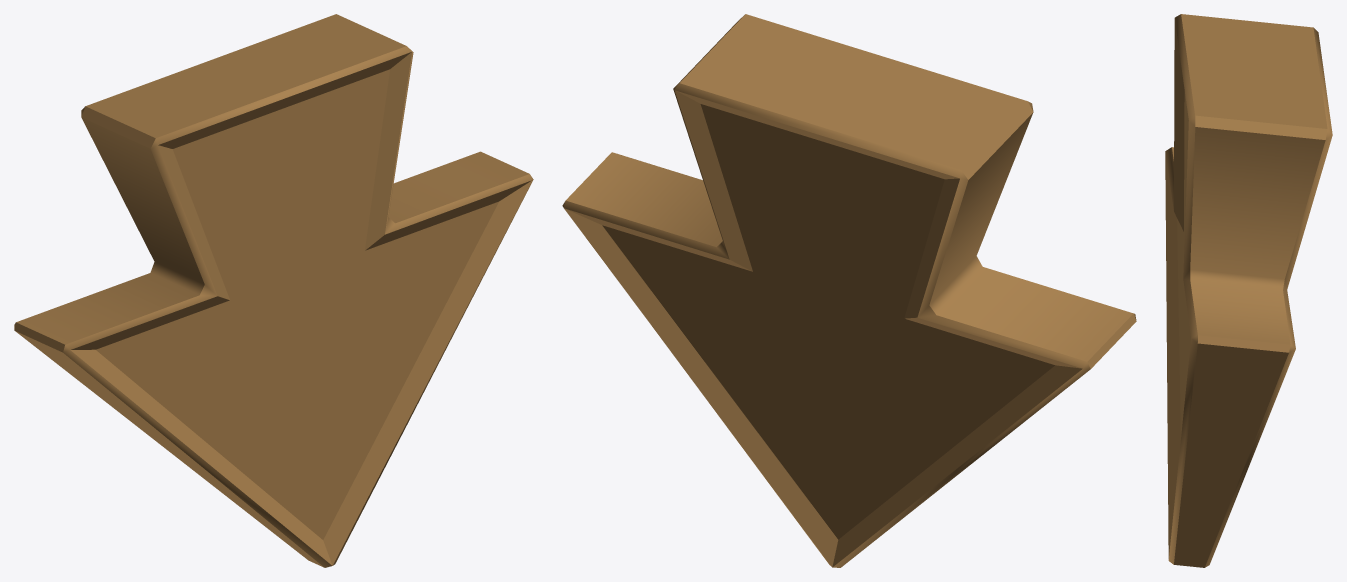
The model's file is FlechaApuntado.fbx.
3 views of the same model, side by side, from view 1: azimuth 30°, elevation 25°; view 2: azimuth 150°, elevation 25°; view 3: azimuth 270°, elevation 25° (orthographic). The views are drawn at different scales.
Parts seen in each view (by area): view 1: node_id45; view 2: node_id45; view 3: node_id45.
Boxes of the visible parts, x1=… form: node_id45: x1=14, y1=14, x2=533, y2=567; node_id45: x1=562, y1=14, x2=1136, y2=567; node_id45: x1=1165, y1=14, x2=1332, y2=567.
Size of the model in its own units: 0.5124 by 0.4978 by 0.153.
1 material, 1 textured.
